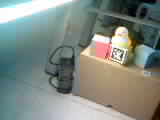duck: (105, 16, 134, 51)
